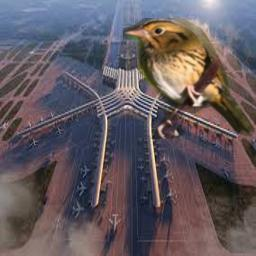Sparrow: (123, 18, 253, 139)
